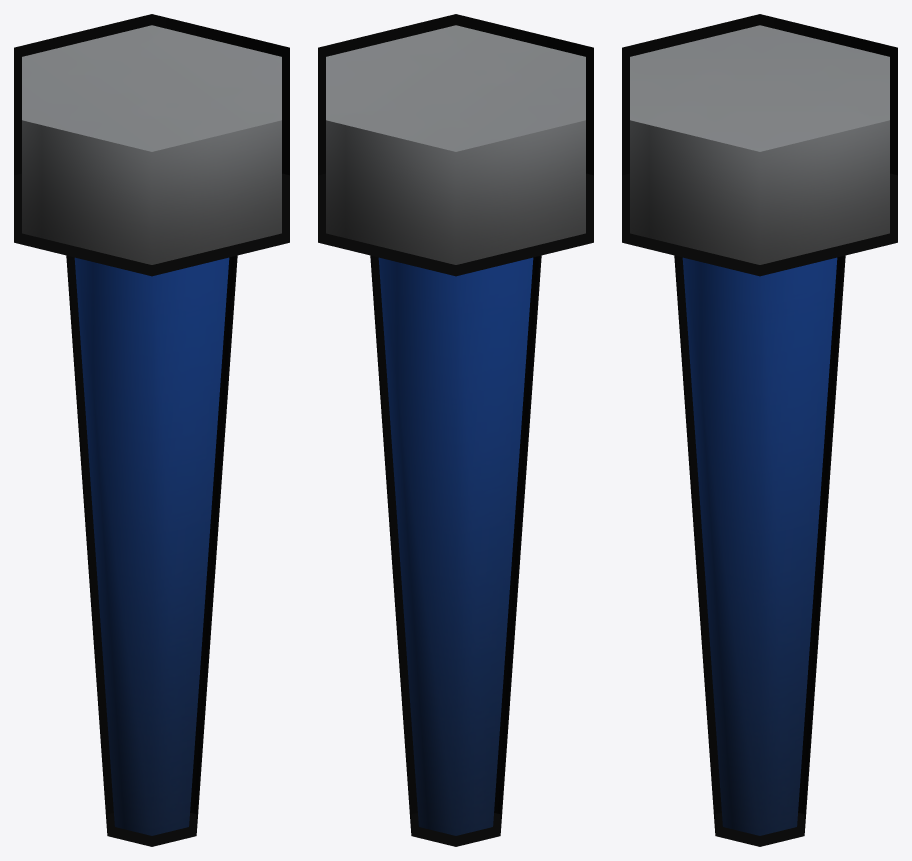
File: PROP_Torch.fbx
3 renders of one model, left to right at view 1: azimuth 30°, elevation 25°; view 2: azimuth 150°, elevation 25°; view 3: azimuth 270°, elevation 25°, orthographic.
Parts seen in each view (by area): view 1: polySurface2, polySurface1; view 2: polySurface2, polySurface1; view 3: polySurface2, polySurface1.
Boxes of the visible parts, x1,y1,x2,y2 form: polySurface2: (22, 25, 281, 835); polySurface1: (14, 14, 289, 846); polySurface2: (326, 25, 585, 835); polySurface1: (318, 14, 593, 846); polySurface2: (630, 25, 889, 835); polySurface1: (622, 14, 897, 846).
Size of the model in its own units: 159 by 409 by 137.
